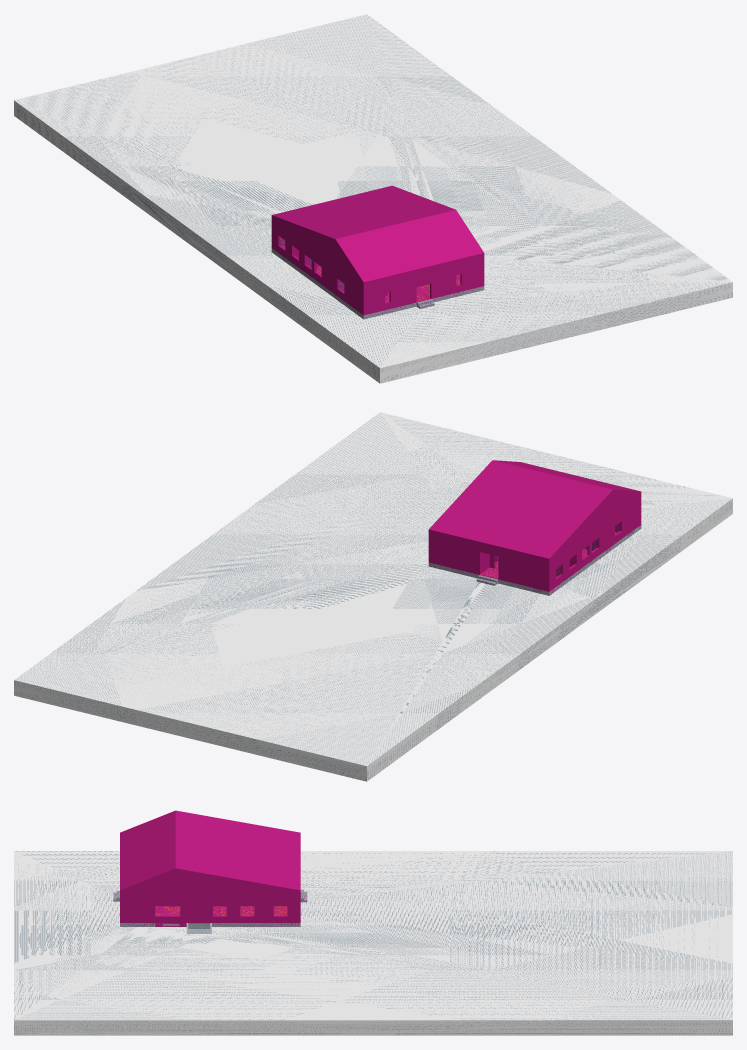
File: Albergue con sotano.fbx
The picture shows the model from 3 angles, top to bottom: view 1: azimuth 30°, elevation 25°; view 2: azimuth 150°, elevation 25°; view 3: azimuth 270°, elevation 25°; orthographic projection.
Parts seen in each view (by area): view 1: Complementario1, techo1, Pared1; view 2: Complementario1, techo1, Pared1; view 3: Complementario1, techo1, Pared1, Sotano1.
Part boxes in pixels (x1,y1,x2,y2): Complementario1: (14, 14, 732, 383); techo1: (271, 185, 484, 292); Pared1: (271, 225, 484, 315); Complementario1: (14, 412, 732, 781); techo1: (428, 460, 641, 568); Pared1: (428, 502, 641, 591); Complementario1: (14, 851, 732, 1035); techo1: (120, 810, 300, 900); Pared1: (120, 900, 300, 922); Sotano1: (155, 923, 211, 933).
Bounding box in the file's own units: 48.24 × 9.84 × 86.67.
